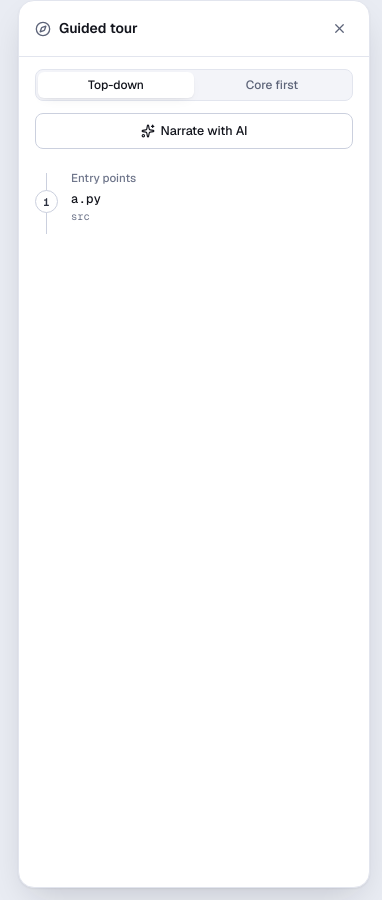
Test: GuidedTour › a failed narrate request still doesn't break the panel
Click the button "Narrate with AI" at (194, 131), box x1=35 y1=113 x2=353 y2=149
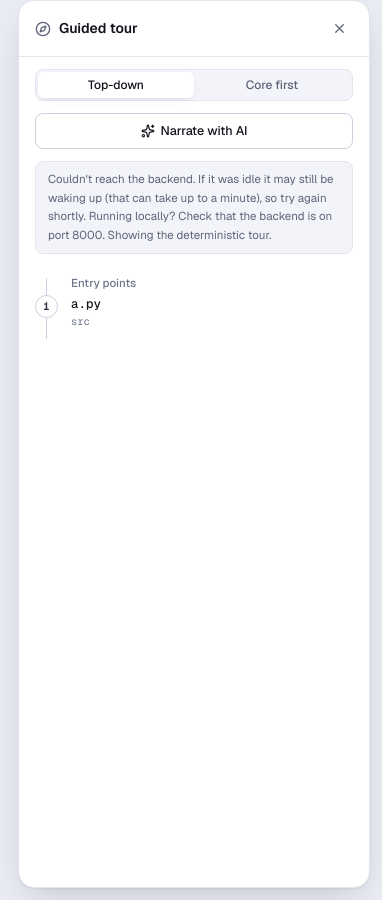
Expected: the text "a.py" is shown, x1=71 y1=295 x2=101 y2=312
Now the message shows "Couldn't reach the backend", box x1=48 y1=171 x2=333 y2=242
